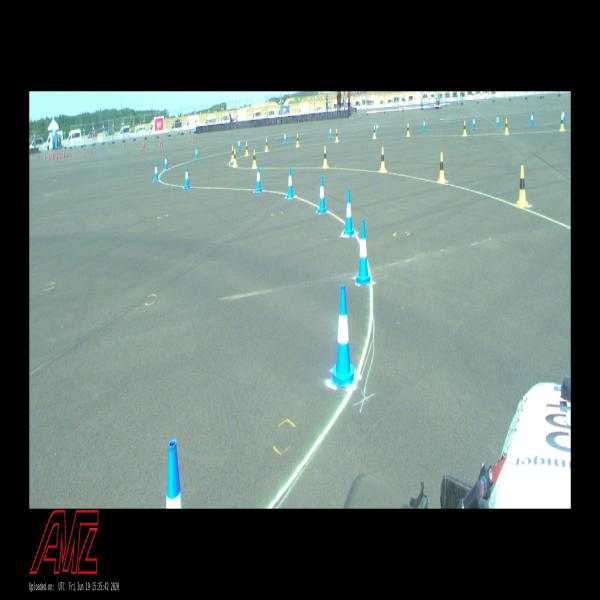blue_cone: (331, 286, 355, 386), (166, 440, 183, 508), (356, 220, 370, 284), (344, 190, 354, 235), (318, 176, 326, 213), (287, 168, 294, 198), (255, 165, 262, 192), (184, 165, 189, 188), (154, 162, 158, 181), (164, 154, 168, 170), (530, 112, 534, 125), (472, 116, 476, 129), (496, 114, 499, 128), (195, 146, 198, 159), (423, 118, 426, 130), (284, 132, 287, 144), (376, 121, 379, 133), (329, 126, 332, 137), (563, 108, 565, 123), (238, 138, 240, 150)
unknown_cone: (192, 135, 194, 143), (56, 152, 58, 160), (66, 150, 68, 157), (161, 141, 163, 147), (160, 138, 162, 144), (159, 140, 161, 146), (143, 142, 145, 148), (142, 141, 144, 147), (90, 148, 92, 154), (63, 151, 65, 157), (44, 154, 46, 160), (48, 154, 50, 160), (50, 152, 52, 158), (52, 153, 54, 159), (52, 150, 54, 156), (189, 135, 190, 142), (60, 152, 61, 159), (123, 143, 124, 149), (37, 152, 38, 157), (48, 151, 49, 156)
yellow_cone: (517, 166, 528, 206), (438, 152, 445, 183), (379, 147, 386, 172), (232, 148, 238, 167), (323, 147, 328, 168), (252, 149, 257, 169), (504, 118, 509, 134), (230, 145, 234, 162), (560, 114, 564, 131), (463, 122, 467, 136), (244, 141, 248, 155), (264, 138, 268, 152), (372, 125, 376, 139), (296, 133, 299, 147), (407, 124, 410, 136), (336, 129, 338, 142)
